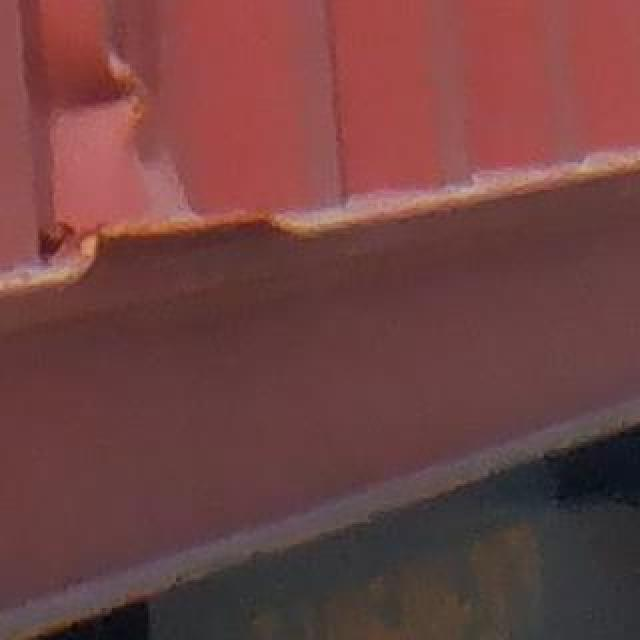dent: (27, 1, 359, 255)
